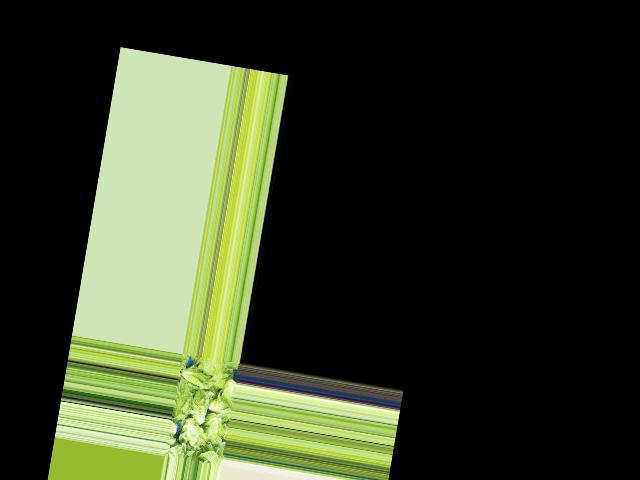lettuce: (218, 373, 236, 409)
